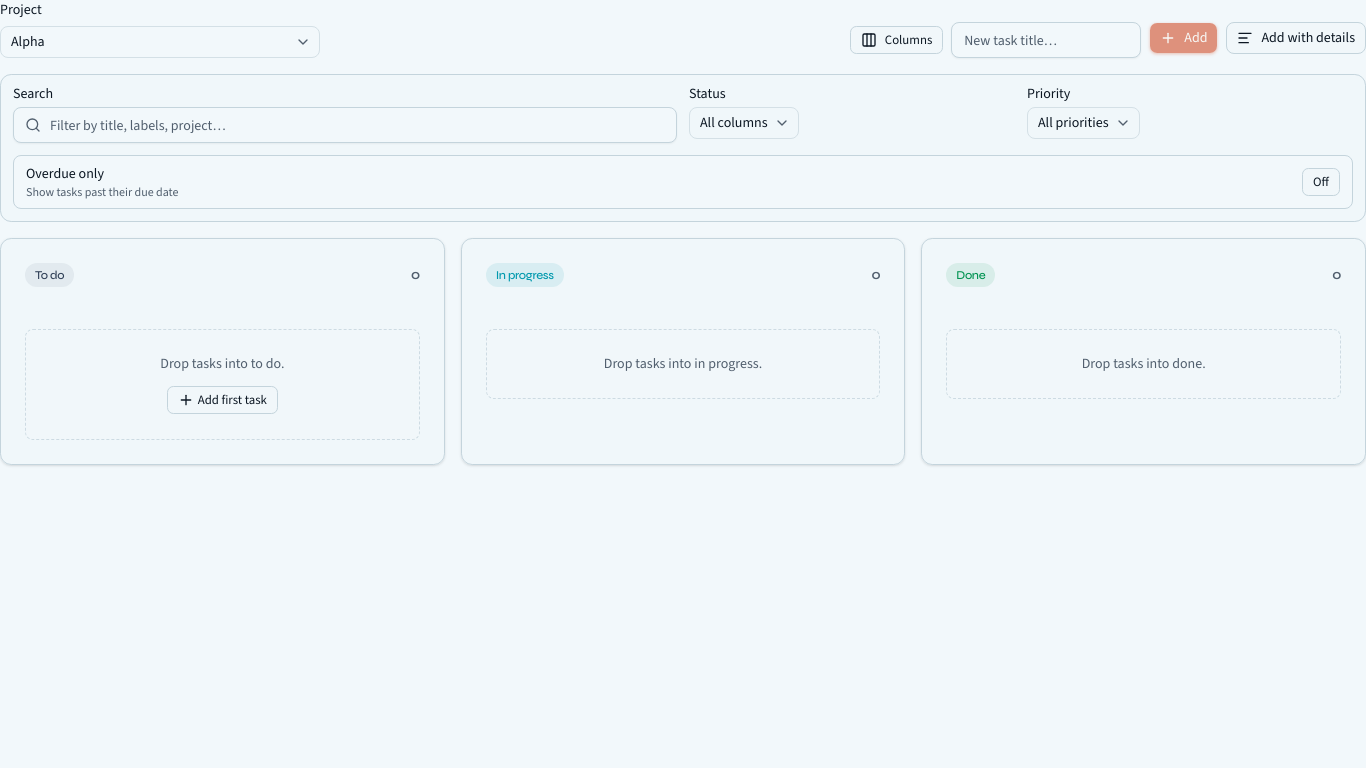
Component: ProjectKanban › opens details dialog for create
This screenshot has width=1366, height=768.
Click the button "Add with details".
click(1296, 38)  # box x1=1226 y1=22 x2=1365 y2=54
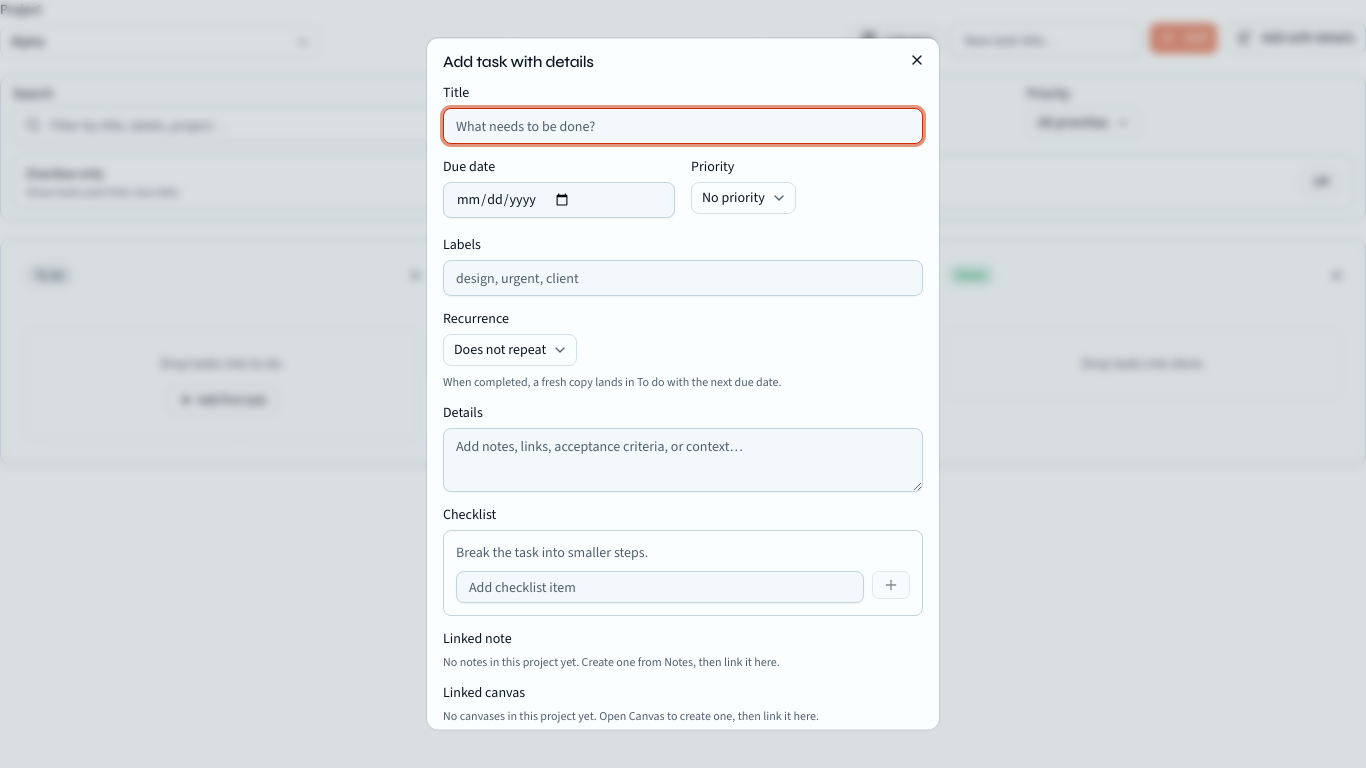
Expected: the heading "Add task with details" is shown, x1=443 y1=52 x2=594 y2=71
Expected: the text box with placeholder "Add notes, links, acceptance criteria, or context…" is shown, x1=443 y1=428 x2=923 y2=492
